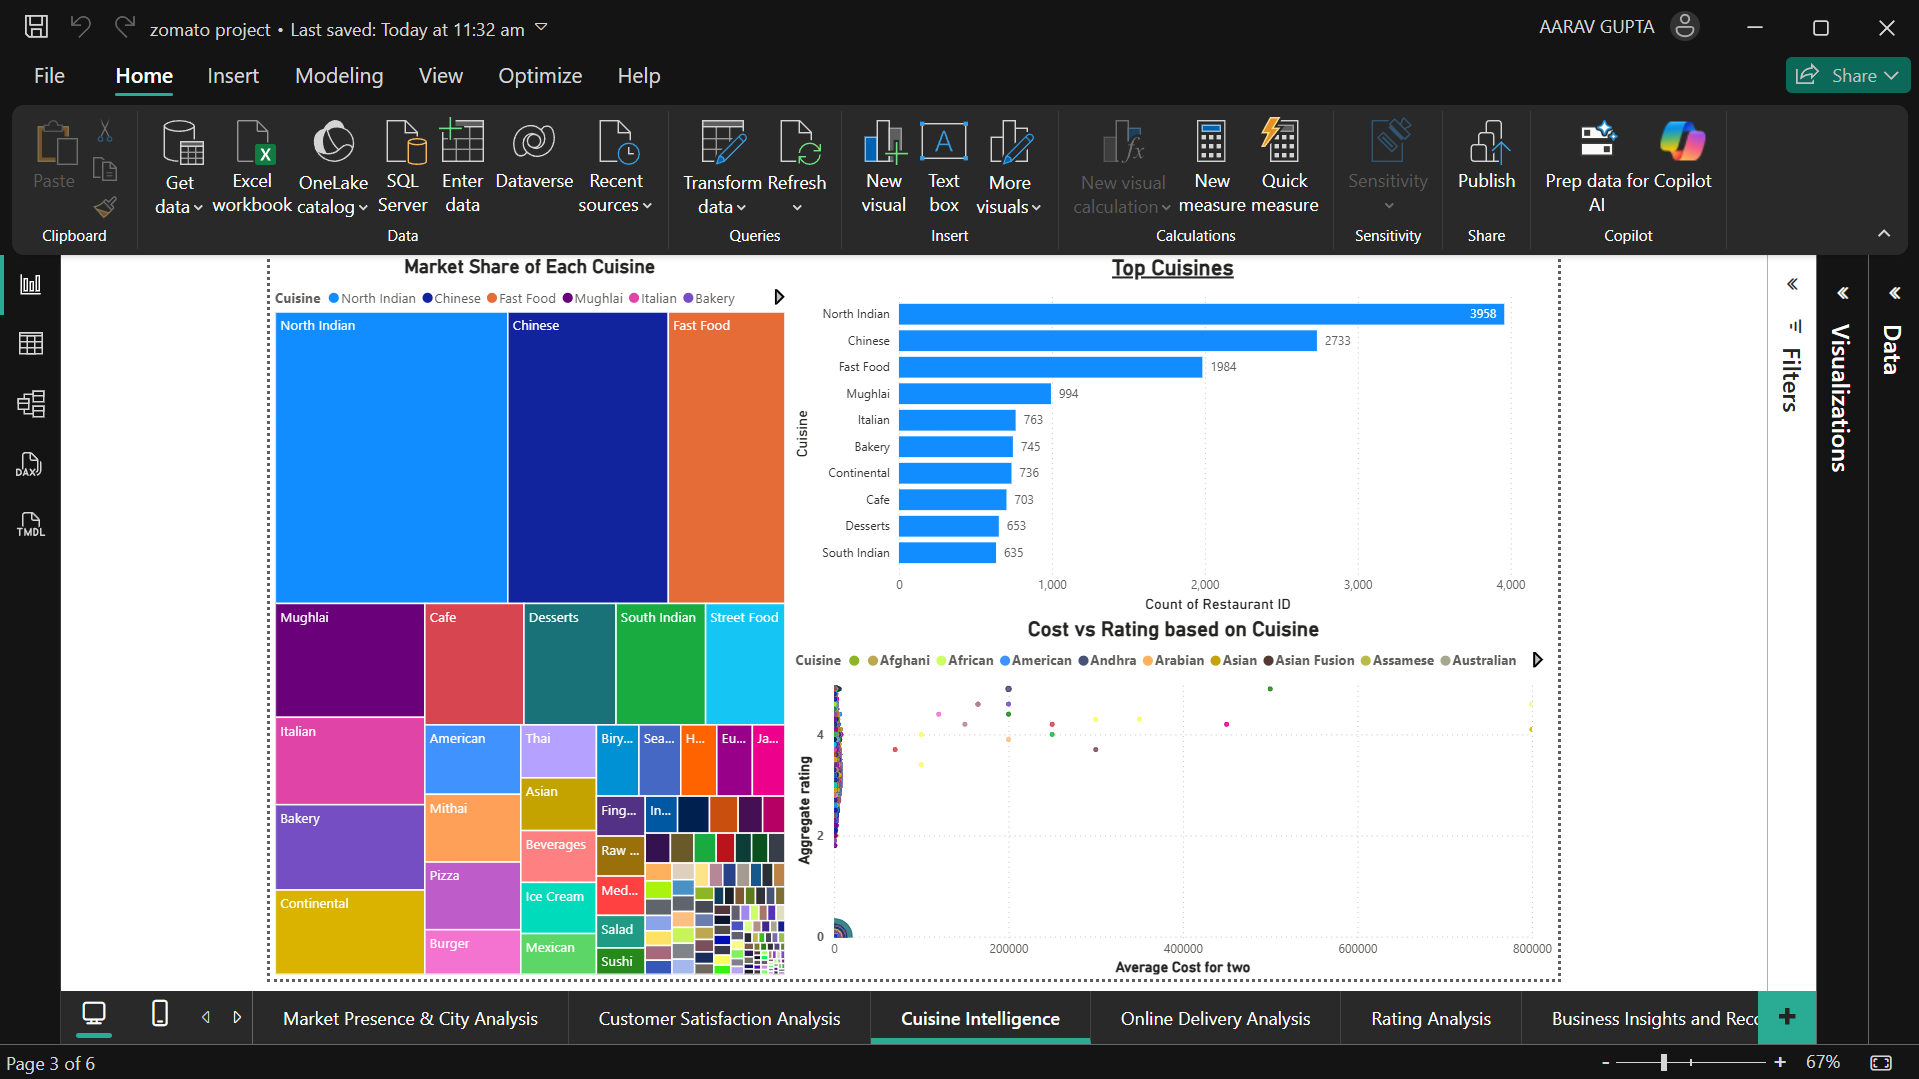

What the dashboard file says about the page in this screenshot:
{"tool":"powerbi","page":{"name":"Cuisine Intelligence","canvas":[1280,720],"ordinal":2},"visuals":[{"type":"clusteredBarChart","title":"Top Cuisines","fields":{"Category":["Cuisine Analysis.Cuisine"],"Y":["CountNonNull(Cuisine Analysis.Restaurant ID)"]},"box":[515.9,0,763.5,359.1],"z":0},{"type":"treemap","title":"Market Share of Each Cuisine","fields":{"Group":["Cuisine Analysis.Cuisine"],"Values":["CountNonNull(Cuisine Analysis.Restaurant ID)"]},"box":[0,0,516.7,720],"z":1000},{"type":"scatterChart","title":"Cost vs Rating based on Cuisine","fields":{"X":["zomato.Average Cost for two"],"Y":["zomato.Aggregate rating"],"Size":["CountNonNull(zomato.Restaurant ID)"],"Series":["Cuisine Analysis.Cuisine"]},"box":[517,359,762,361],"z":2000}]}

Visuals, with their boxes on the page's 1280x720 design canvas (x1, y1, x2, y2). These are canvas units, not pixel positions in the 1919x1079 screenshot, which may show the page scaled, cropped or inside an application window:
"Top Cuisines" clusteredBarChart: x1=516, y1=0, x2=1279, y2=359
"Market Share of Each Cuisine" treemap: x1=0, y1=0, x2=517, y2=720
"Cost vs Rating based on Cuisine" scatterChart: x1=517, y1=359, x2=1279, y2=720
